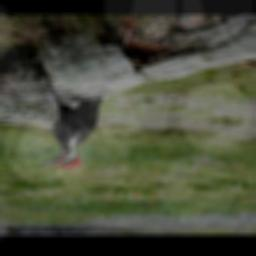Woodpecker: (38, 93, 104, 174)
